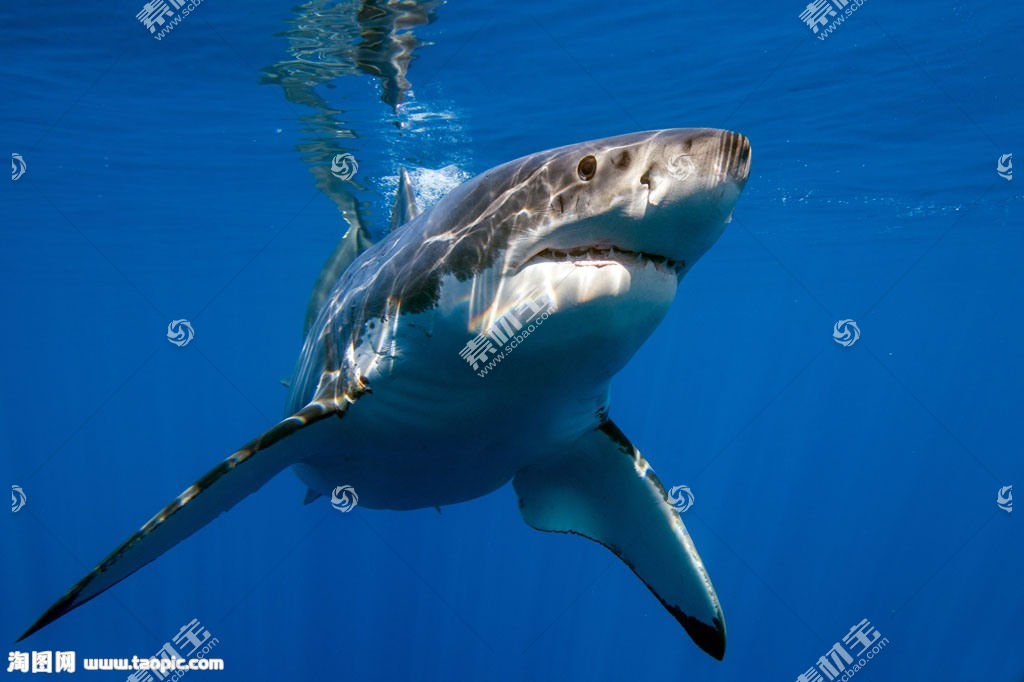shark: (6, 101, 797, 654)
